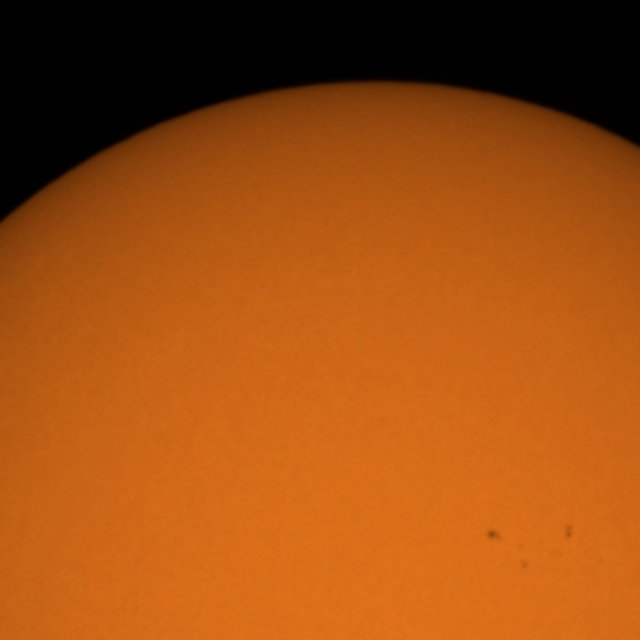sunspot: (516, 540, 532, 574), (484, 527, 503, 544), (562, 522, 575, 542), (518, 558, 530, 572)
